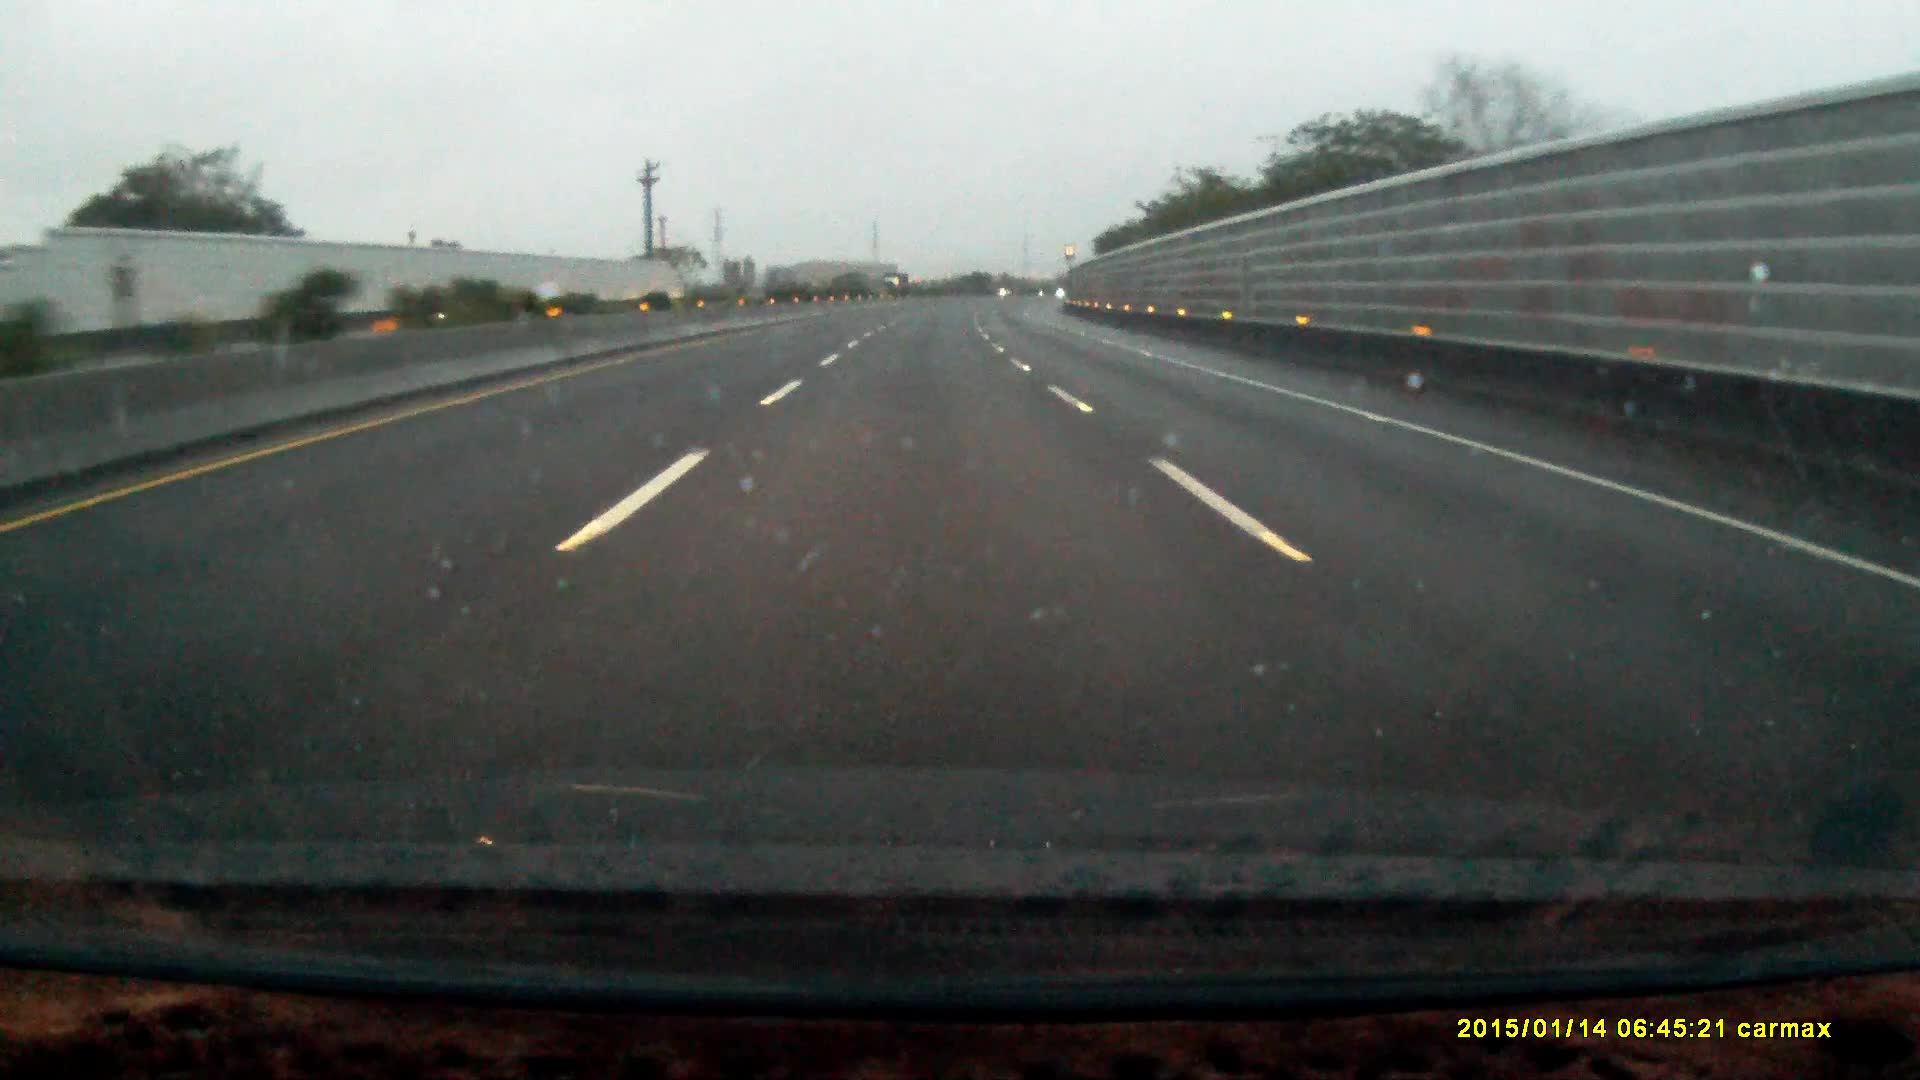vehicle: (884, 274, 911, 298)
